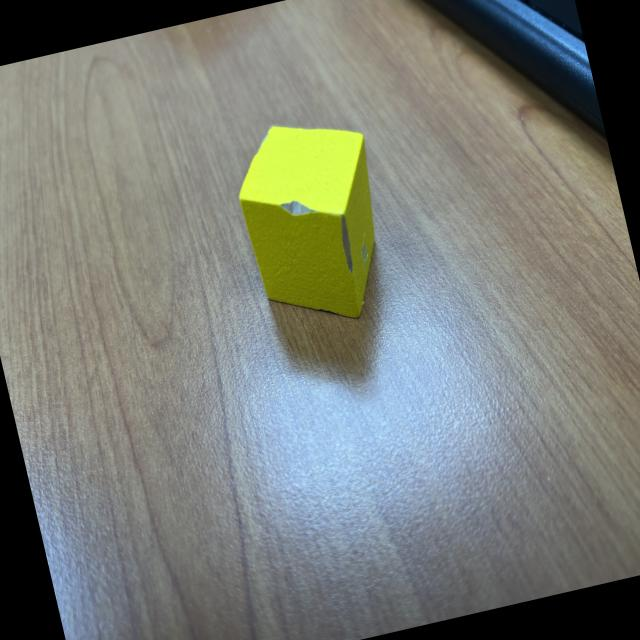broken: (224, 106, 404, 339)
